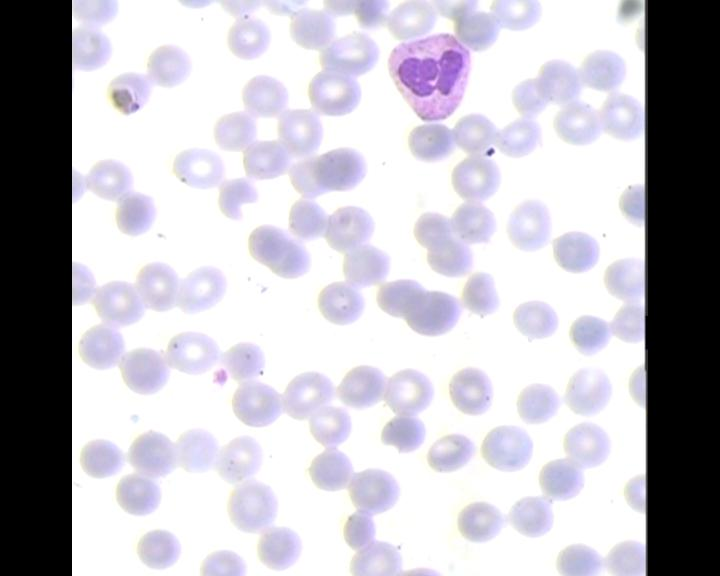neut: (384, 27, 475, 124)
